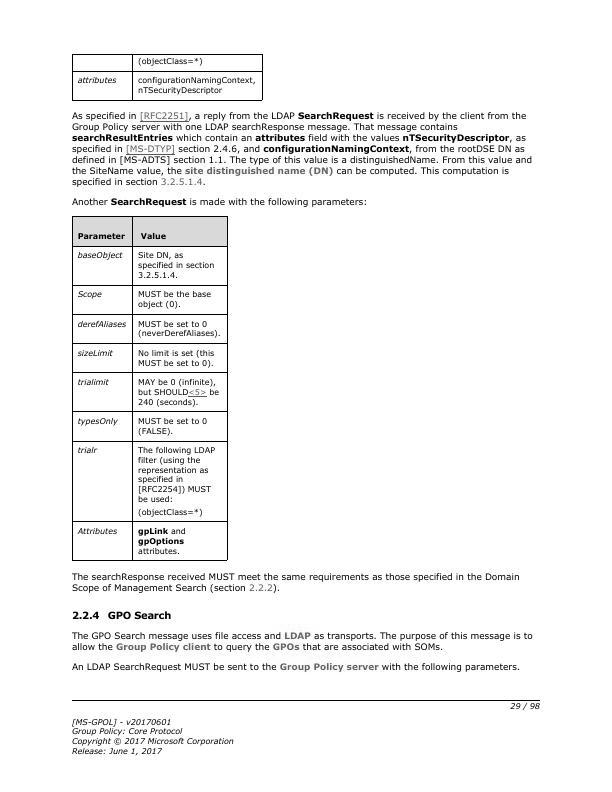table: (73, 216, 228, 560), (72, 53, 265, 103)
text: (70, 108, 536, 189), (69, 567, 522, 594), (70, 630, 536, 655), (68, 714, 235, 757), (68, 660, 520, 673), (68, 196, 367, 208), (70, 609, 172, 623)
